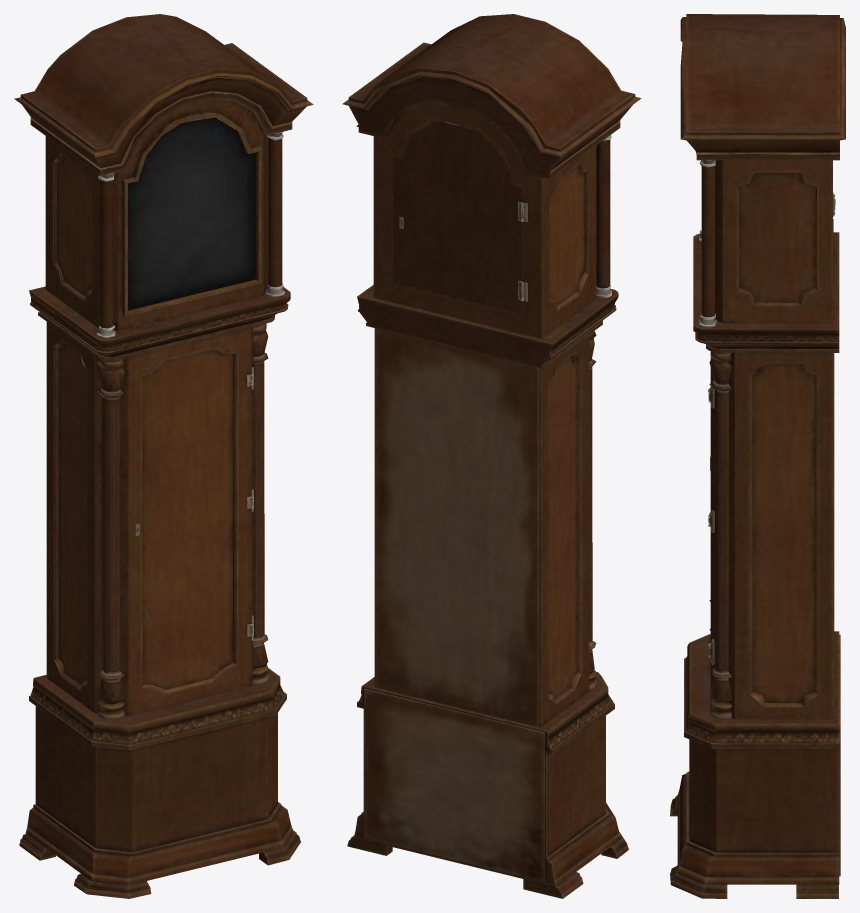
File: vintage_grandfather_clock_01.glb
The picture shows the model from 3 angles, left to right: view 1: azimuth 30°, elevation 25°; view 2: azimuth 150°, elevation 25°; view 3: azimuth 270°, elevation 25°; orthographic projection. The views are drawn at different scales.
Parts seen in each view (by area): view 1: vintage_grandfather_clock_01_Body; view 2: vintage_grandfather_clock_01_Body; view 3: vintage_grandfather_clock_01_Body.
Boxes of the visible parts, left/top/right/bottom form: vintage_grandfather_clock_01_Body: left=14, top=14, right=313, bottom=898; vintage_grandfather_clock_01_Body: left=342, top=14, right=641, bottom=898; vintage_grandfather_clock_01_Body: left=670, top=14, right=845, bottom=898.
Size of the model in its own units: 0.6256 by 2.19 by 0.4266.
2 materials, 2 textured.
